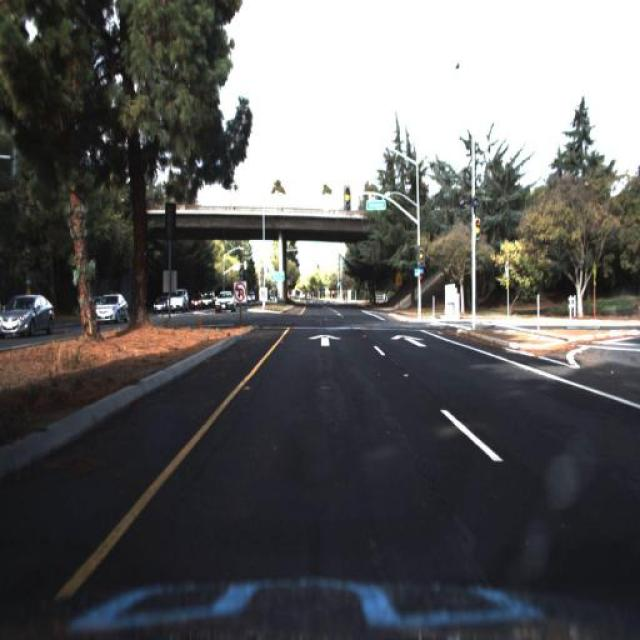car: (2, 290, 56, 340), (94, 285, 128, 329), (164, 284, 190, 320), (165, 288, 186, 312), (199, 285, 215, 315), (216, 290, 236, 311)
trafficLight-YellowLeft: (471, 214, 485, 241), (343, 183, 352, 214), (416, 241, 425, 267), (473, 212, 481, 237)
